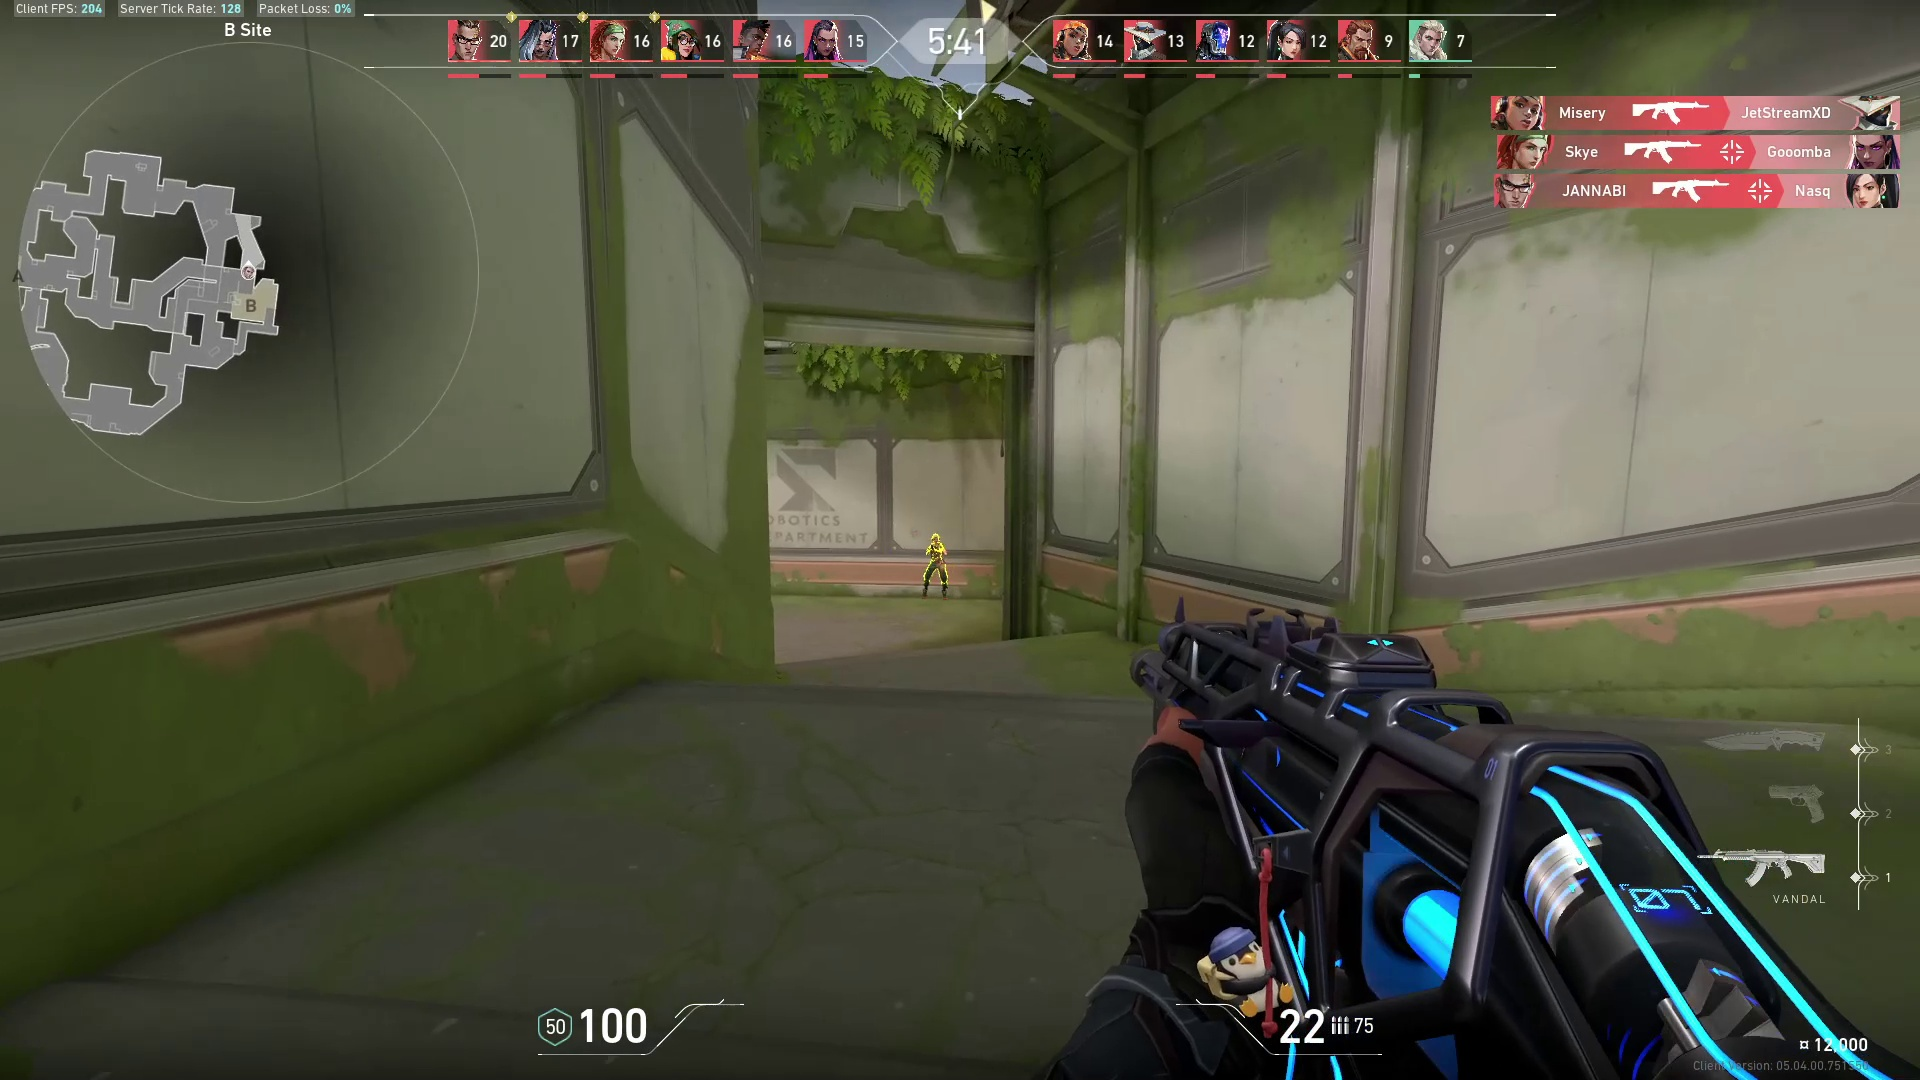enemy_body: (922, 544, 953, 601)
enemy_head: (929, 531, 943, 545)
